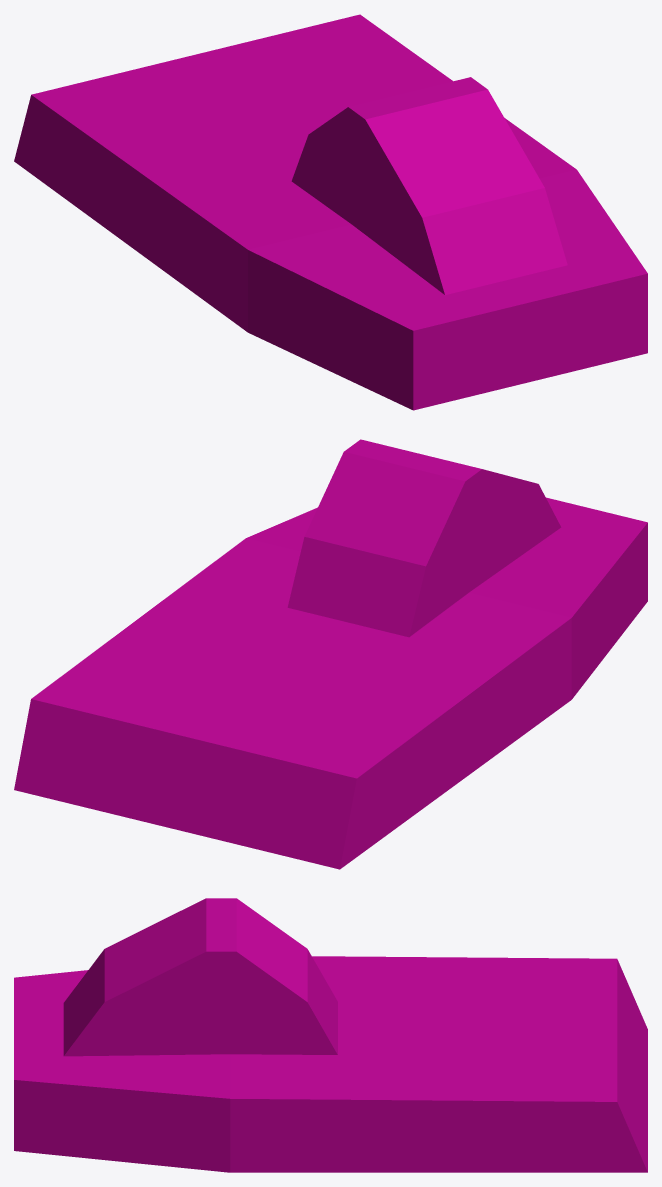
Rendered from SM_Veh_Kart_01_Collision.fbx.
3 views of the same model, one above another, from view 1: azimuth 30°, elevation 25°; view 2: azimuth 150°, elevation 25°; view 3: azimuth 270°, elevation 25° (orthographic). The views are drawn at different scales.
Parts seen in each view (by area): view 1: SM_Veh_Kart_01_Collision; view 2: SM_Veh_Kart_01_Collision; view 3: SM_Veh_Kart_01_Collision.
Part boxes in pixels (<box>): SM_Veh_Kart_01_Collision: <box>14,14,647,410</box>; SM_Veh_Kart_01_Collision: <box>14,439,647,869</box>; SM_Veh_Kart_01_Collision: <box>14,898,647,1172</box>.
Bounding box in the file's own units: 92.42 × 53.09 × 173.
